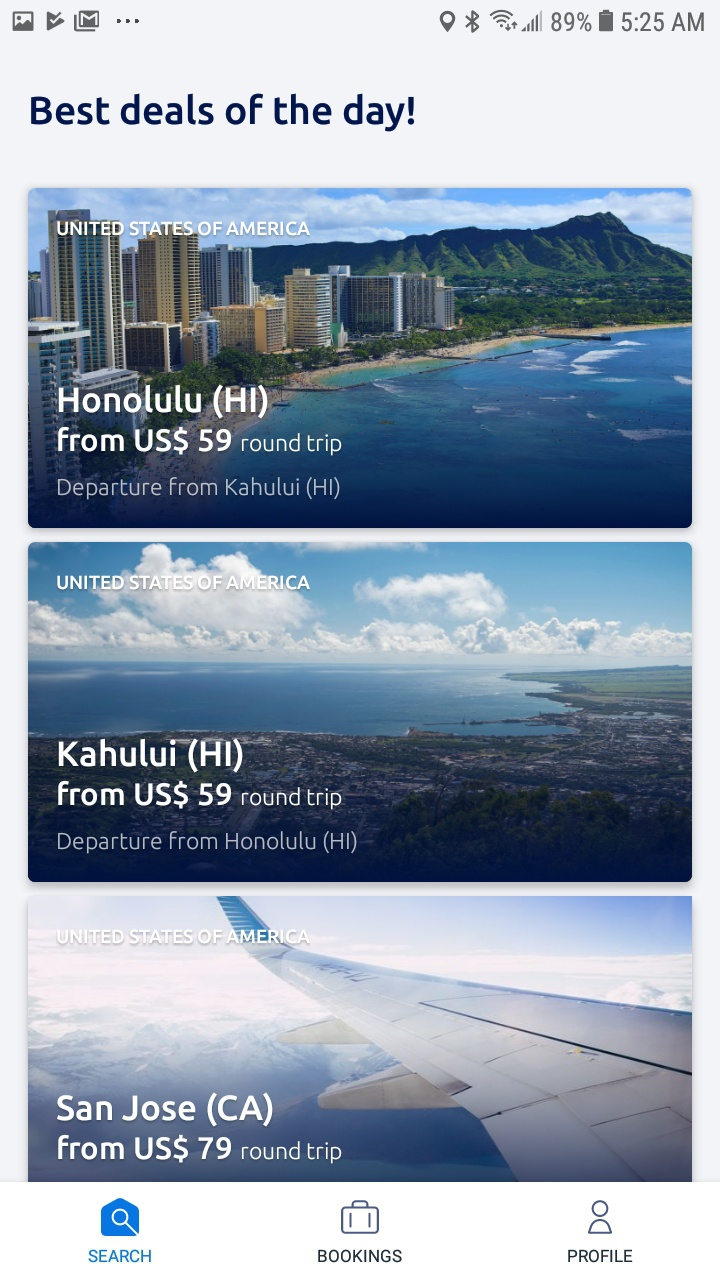Icon: (101, 1198, 140, 1236), (341, 1199, 380, 1234), (588, 1199, 613, 1235)
Image: (28, 542, 692, 883), (29, 189, 693, 529), (29, 896, 692, 1182)
Text: (57, 1092, 343, 1164), (58, 385, 343, 457), (58, 739, 342, 810), (31, 94, 415, 133), (58, 831, 358, 855), (58, 477, 341, 501), (57, 220, 311, 237), (57, 575, 311, 591), (57, 929, 311, 945), (318, 1249, 403, 1263), (568, 1249, 633, 1263), (89, 1249, 152, 1263)
UpperTaskBar: (1, 1, 720, 35)
